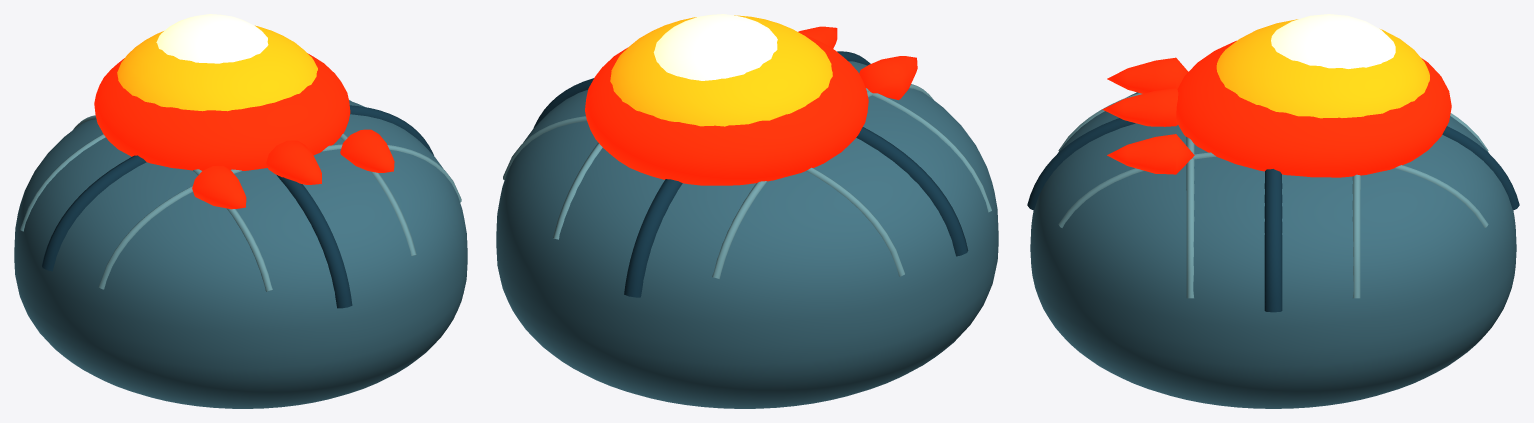
File: pu_mega_cannon.glb
3 views of the same model, side by side, from view 1: azimuth 30°, elevation 25°; view 2: azimuth 150°, elevation 25°; view 3: azimuth 270°, elevation 25° (orthographic). The views are drawn at different scales.
Visible parts, largest first — view 1: orb, fire_rim, fire_mid, orb_groove_13, core, orb_seam_13; view 2: orb, fire_rim, fire_mid, core, orb_groove_13, orb_seam_13; view 3: orb, fire_rim, fire_mid, core, orb_groove_13, orb_seam_13.
Part boxes in pixels (bbox=[...]): orb: bbox=[14, 100, 467, 408]; fire_rim: bbox=[94, 53, 394, 209]; fire_mid: bbox=[117, 25, 317, 111]; orb_groove_13: bbox=[42, 105, 433, 308]; core: bbox=[156, 14, 268, 63]; orb_seam_13: bbox=[20, 100, 461, 291]; orb: bbox=[496, 61, 998, 408]; fire_rim: bbox=[585, 26, 917, 185]; fire_mid: bbox=[610, 15, 832, 126]; core: bbox=[653, 14, 777, 80]; orb_groove_13: bbox=[533, 51, 968, 297]; orb_seam_13: bbox=[503, 84, 991, 278]; orb: bbox=[1030, 92, 1516, 408]; fire_rim: bbox=[1102, 40, 1451, 177]; fire_mid: bbox=[1216, 19, 1429, 118]; core: bbox=[1271, 14, 1395, 68]; orb_groove_13: bbox=[1027, 118, 1519, 312]; orb_seam_13: bbox=[1058, 93, 1488, 298].
Size of the model in its own units: 20.88 by 16.05 by 21.27.
